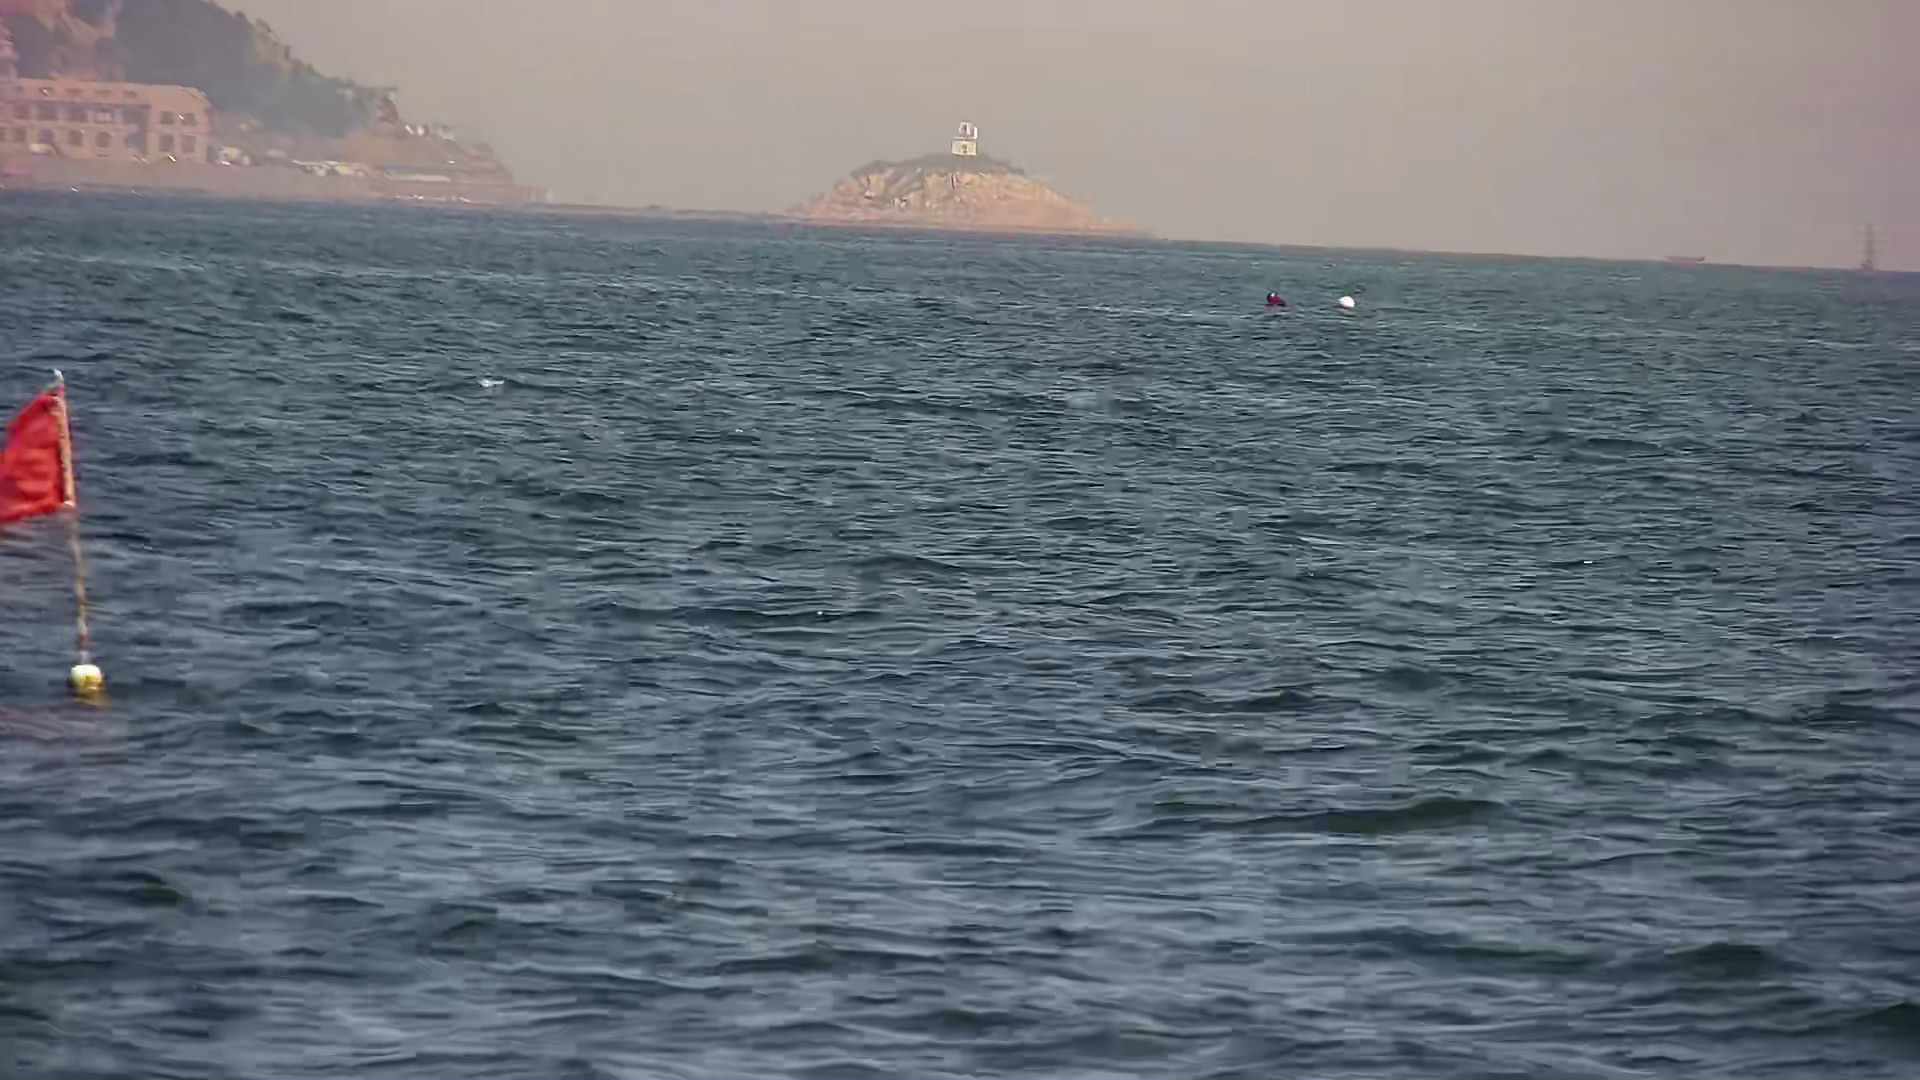mast: (44, 368, 115, 702)
rock: (790, 99, 1135, 249)
rubbish: (1261, 285, 1365, 318)
